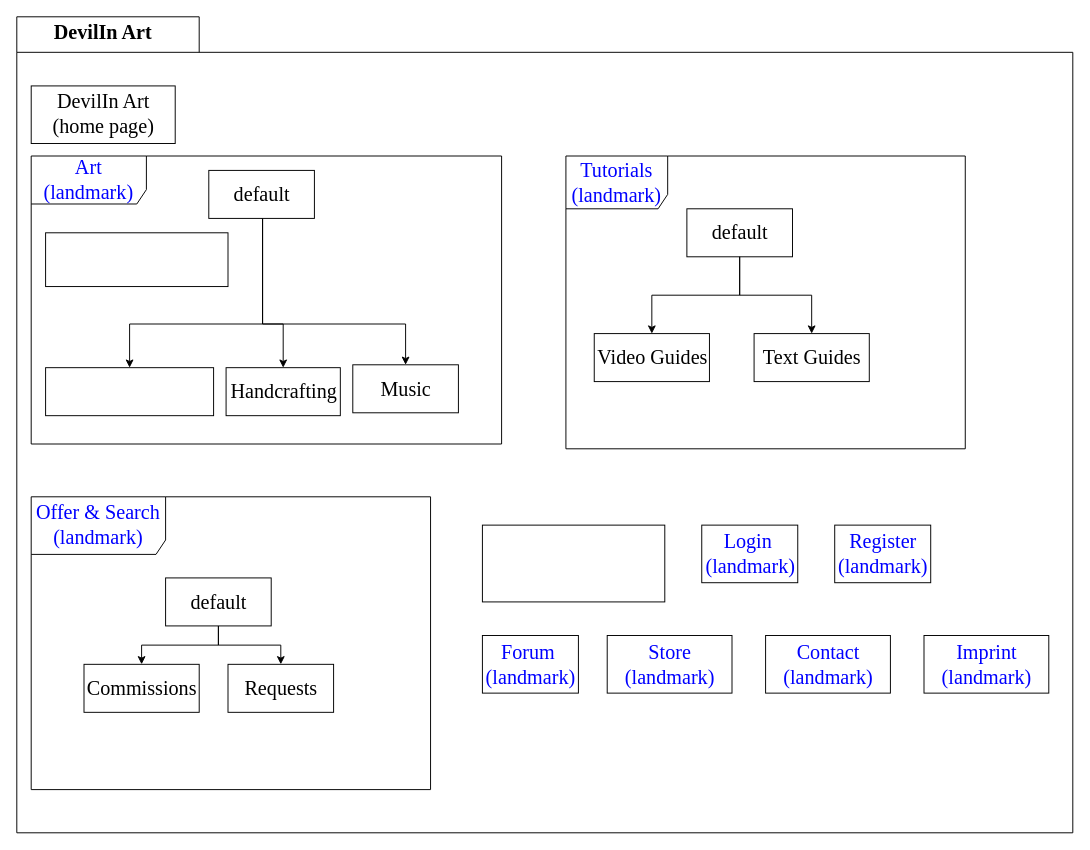
Image size: 1090x850. Some labels were removed from this diagram. The shapes that lost their labels are listed below. From the top down, each one's centre as x and y in pixels, then its label:
(x=136, y=259): Rate Content (registered users only)
(x=129, y=391): Pictures/Animations
(x=573, y=563): Profile (landmark) (registered users only)
